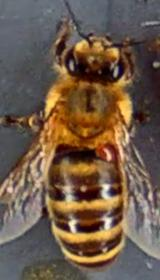varroa_mite: (88, 136, 122, 168)
